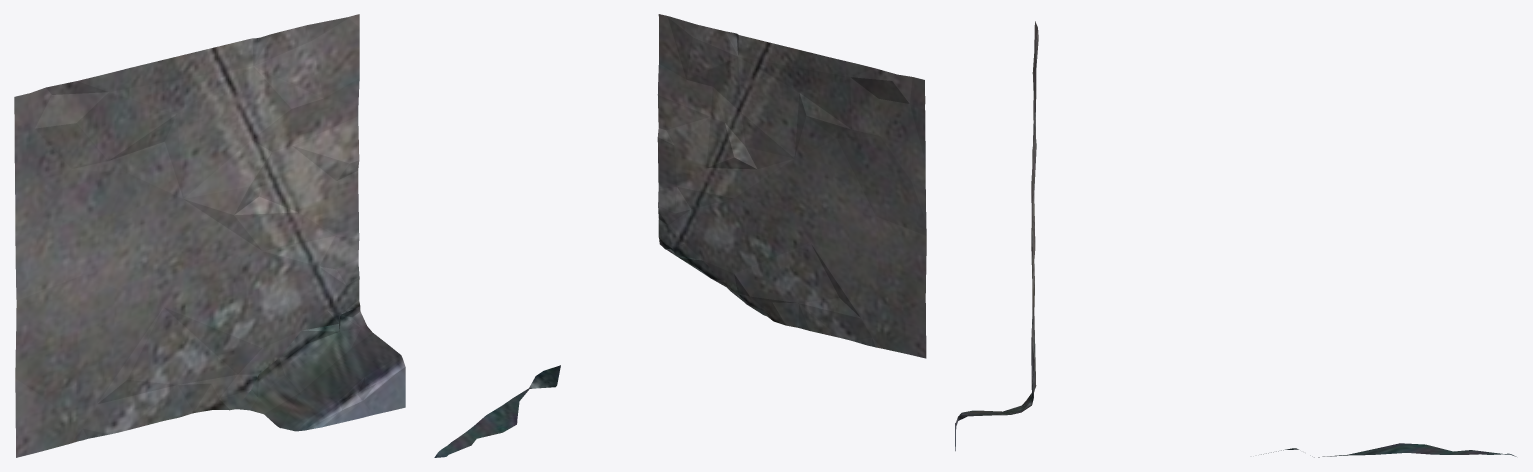
Rendered from Tile_+002_+007_L23_000300.obj.
The picture shows the model from 3 angles, left to right: view 1: azimuth 30°, elevation 25°; view 2: azimuth 150°, elevation 25°; view 3: azimuth 270°, elevation 25°; orthographic projection. The views are drawn at different scales.
Size of the model in its own units: 1.91 by 1.91 by 3.22.
